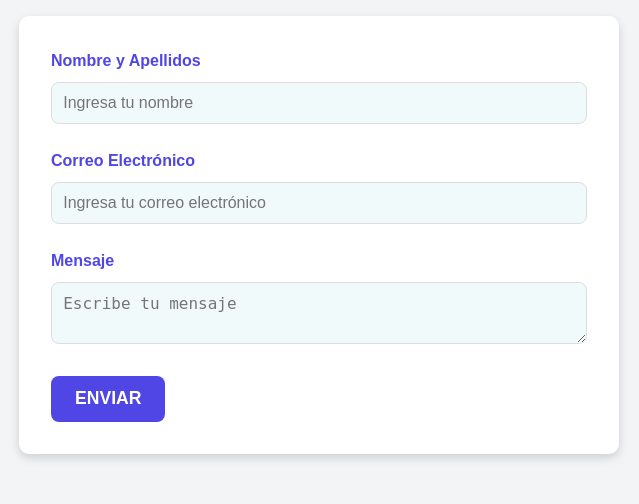
Test: ContactForm Component › Enviar los datos cuando los valores son validos
Type "Jenny Munera" into the field labelled "Nombre y Apellidos" at coordinates (319, 103), box [51, 82, 587, 124]
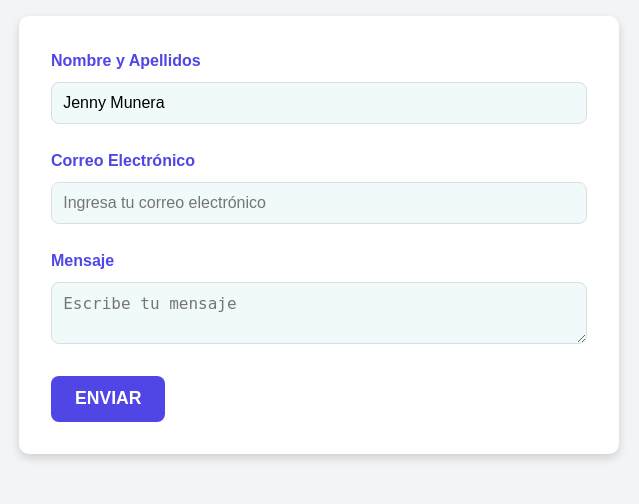
Type "jennymunera94@gmail.com" into the field labelled "Correo Electrónico" at coordinates (319, 203), box [51, 182, 587, 224]
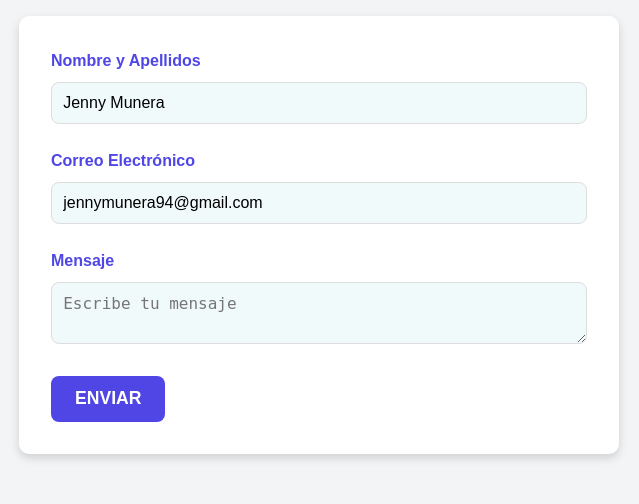
Type "Este es un mensaje válido." into the text box labelled "Mensaje" at coordinates (319, 313), box [51, 282, 587, 344]
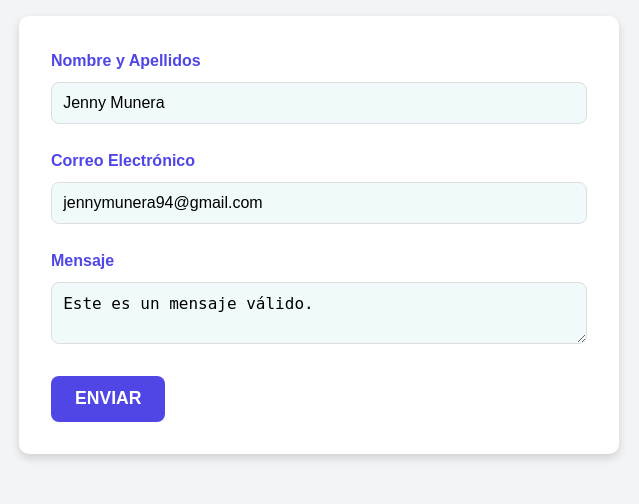
Click the button "Enviar" at coordinates (108, 399), box [51, 376, 166, 422]
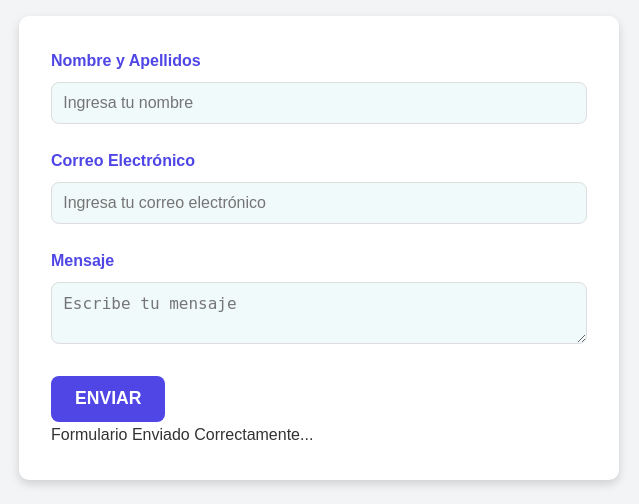
Check: the text "Formulario Enviado Correctamente..." is shown, box [51, 426, 313, 443]
